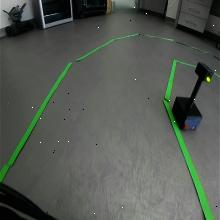green: (194, 62, 214, 83)
